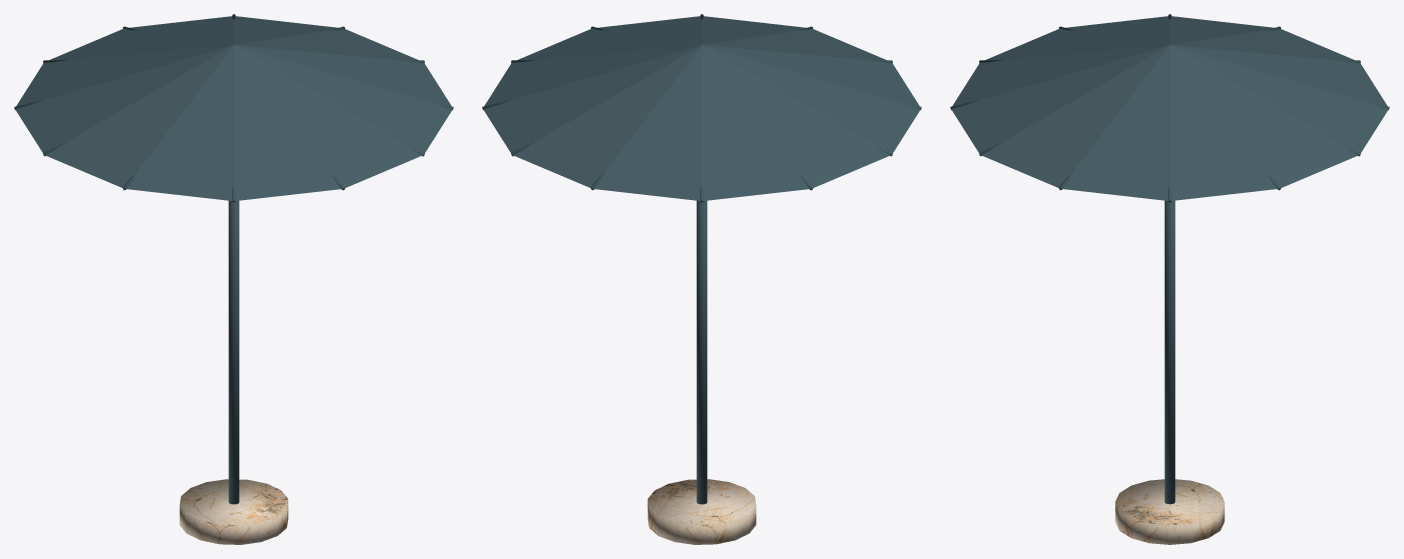
File: market_umbrella.glb
The picture shows the model from 3 angles, left to right: view 1: azimuth 30°, elevation 25°; view 2: azimuth 150°, elevation 25°; view 3: azimuth 270°, elevation 25°; orthographic projection.
Visible parts, largest first — view 1: market_umbrella__VVK_painted_steel, market_umbrella__VVK_concrete_CC0; view 2: market_umbrella__VVK_painted_steel, market_umbrella__VVK_concrete_CC0; view 3: market_umbrella__VVK_painted_steel, market_umbrella__VVK_concrete_CC0.
Part boxes in pixels (<box>): market_umbrella__VVK_painted_steel: <box>14,14,453,504</box>; market_umbrella__VVK_concrete_CC0: <box>179,479,288,544</box>; market_umbrella__VVK_painted_steel: <box>482,14,921,504</box>; market_umbrella__VVK_concrete_CC0: <box>647,479,756,544</box>; market_umbrella__VVK_painted_steel: <box>950,14,1389,504</box>; market_umbrella__VVK_concrete_CC0: <box>1115,479,1224,544</box>.
Size of the model in its own units: 2 by 2.4 by 2.
2 materials, 1 textured.
